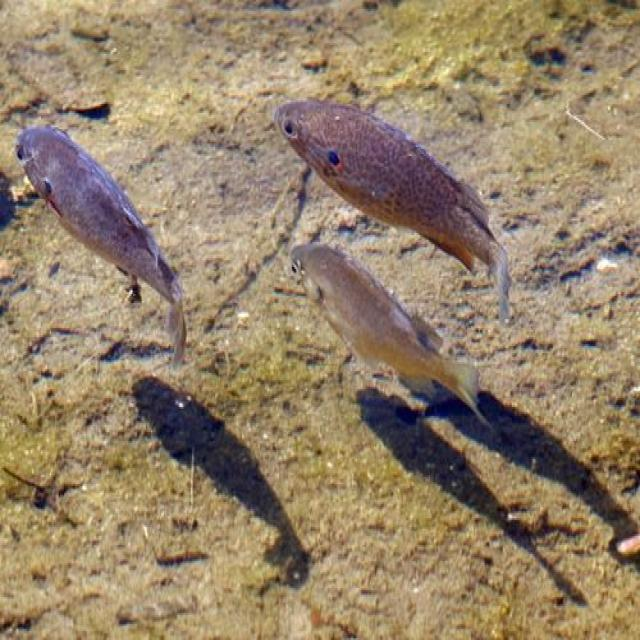Gunes Levregi: (9, 122, 197, 376)
